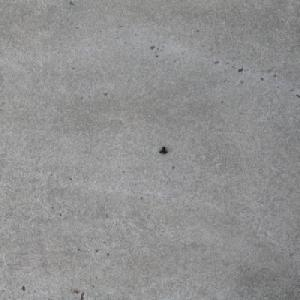BoltWasher: (158, 146, 168, 154)
